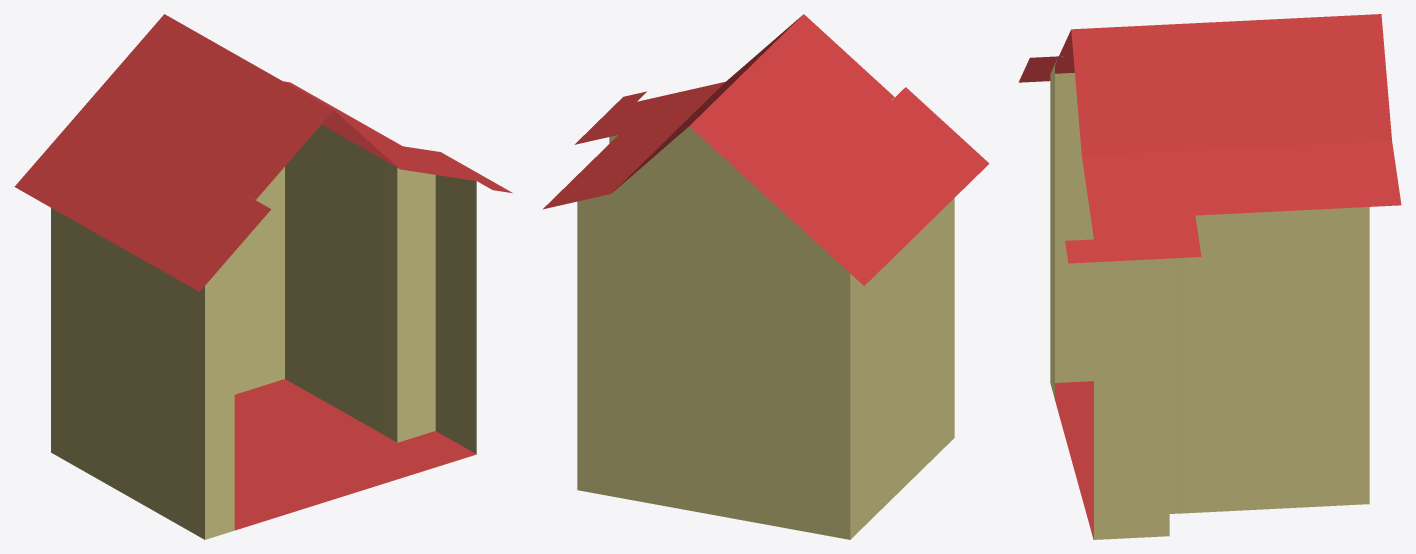
3 renders of one model, left to right at view 1: azimuth 30°, elevation 25°; view 2: azimuth 150°, elevation 25°; view 3: azimuth 270°, elevation 25°, orthographic. The views are drawn at different scales.
Size of the model in its own units: 12.19 by 9.99 by 12.32.
